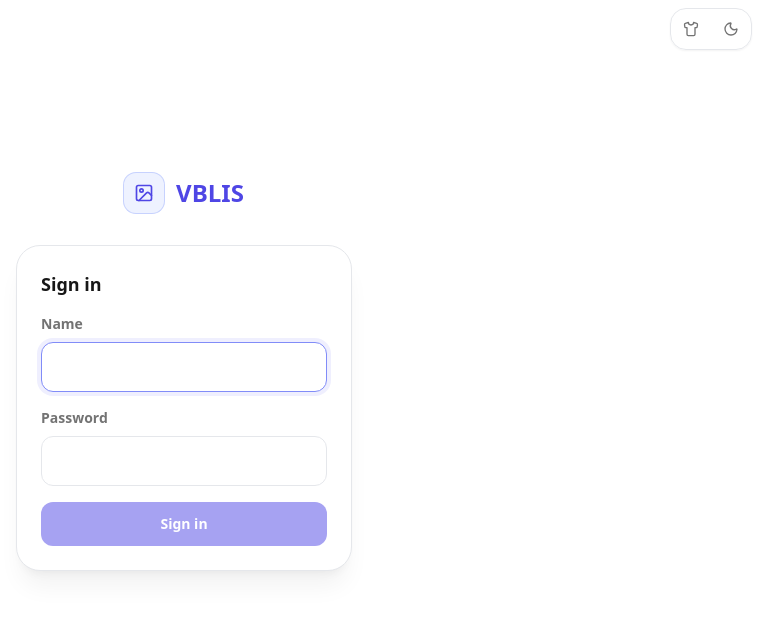
SessionGate › in a browser › signing in › says what the server said when it cannot give a challenge, without trying to sign in
The image size is (760, 634).
Type "alice" into the field labelled "Name" at point(184, 367), box 41,342 -> 327,392
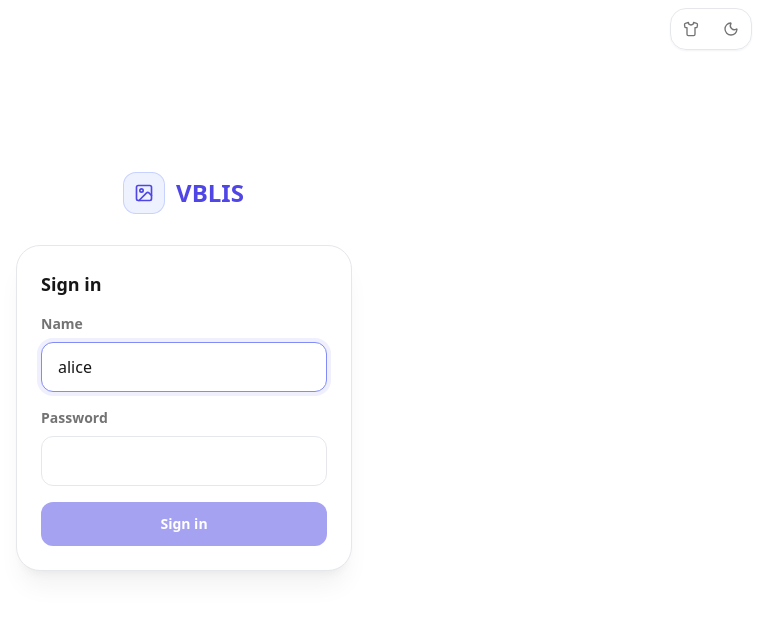
Type "secret" into the password field labelled "Password" at point(184, 461), box 41,436 -> 327,486
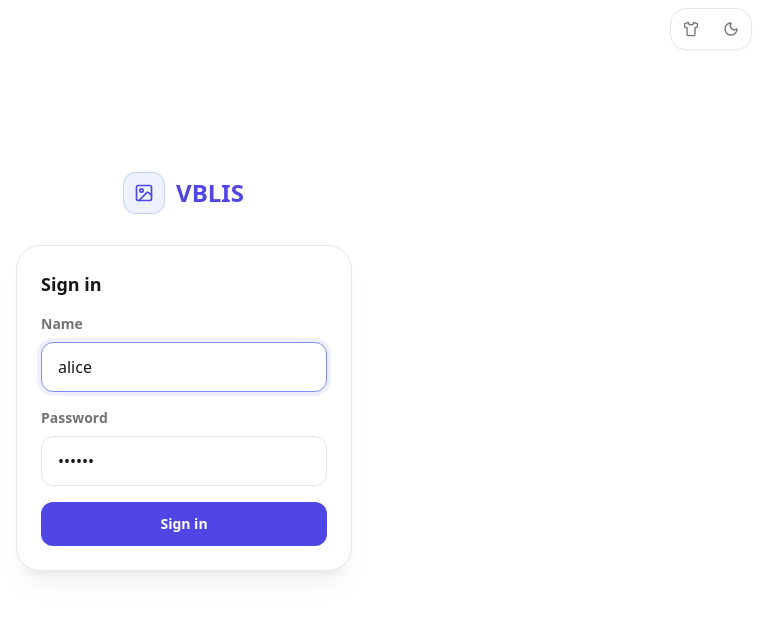
Click the button "Sign in" at point(184, 524), box 41,502 -> 327,546
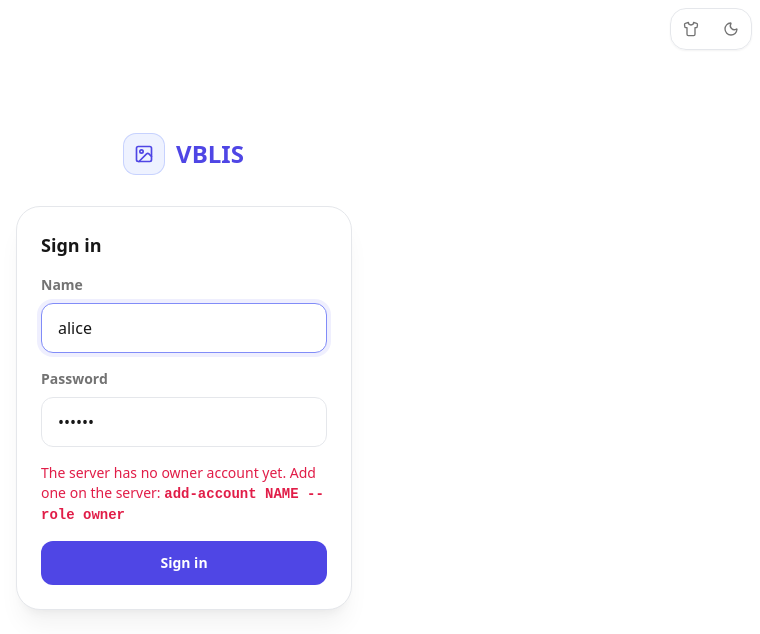
Now the message shows "The server has no owner account yet. Add one on the server: add-account NAME --role owner", box 41,463 -> 327,525
